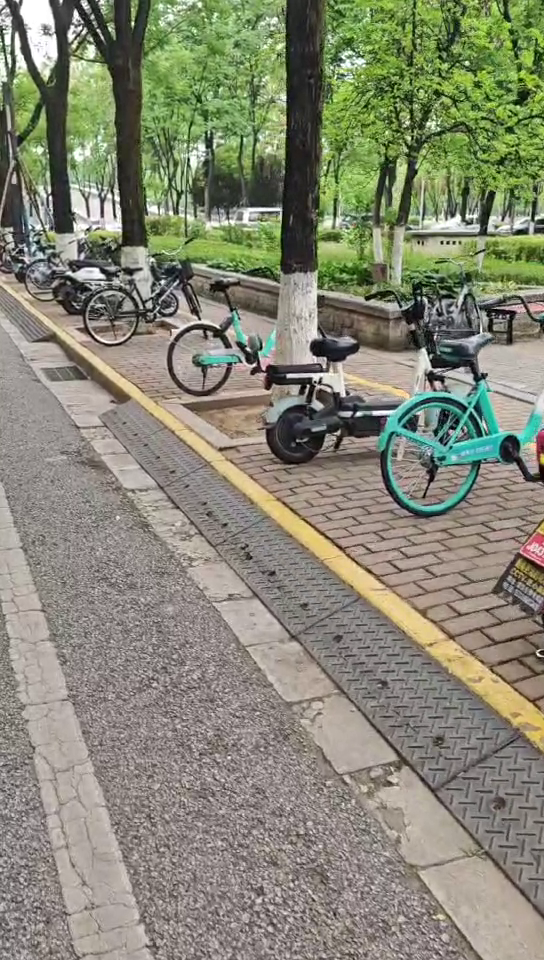others: (274, 278, 460, 456), (83, 256, 208, 346)
shared_bike_qingcong: (379, 312, 544, 515), (162, 272, 306, 393)
